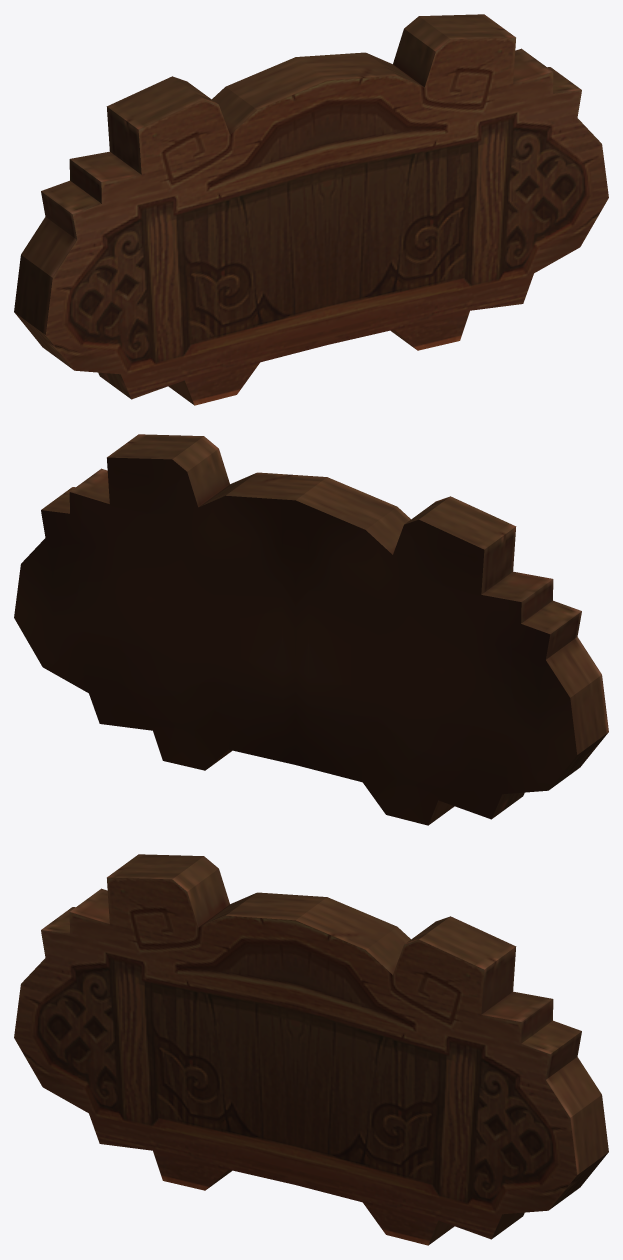
The model's file is QCL_menpai_01.FBX.
The picture shows the model from 3 angles, top to bottom: view 1: azimuth 30°, elevation 25°; view 2: azimuth 150°, elevation 25°; view 3: azimuth 330°, elevation 25°; orthographic projection.
Parts seen in each view (by area): view 1: Box02; view 2: Box02; view 3: Box02.
Part boxes in pixels (bbox=[...]): Box02: bbox=[14, 14, 608, 405]; Box02: bbox=[14, 434, 608, 825]; Box02: bbox=[14, 854, 608, 1245].
Size of the model in its own units: 66.41 by 34.23 by 6.49.
